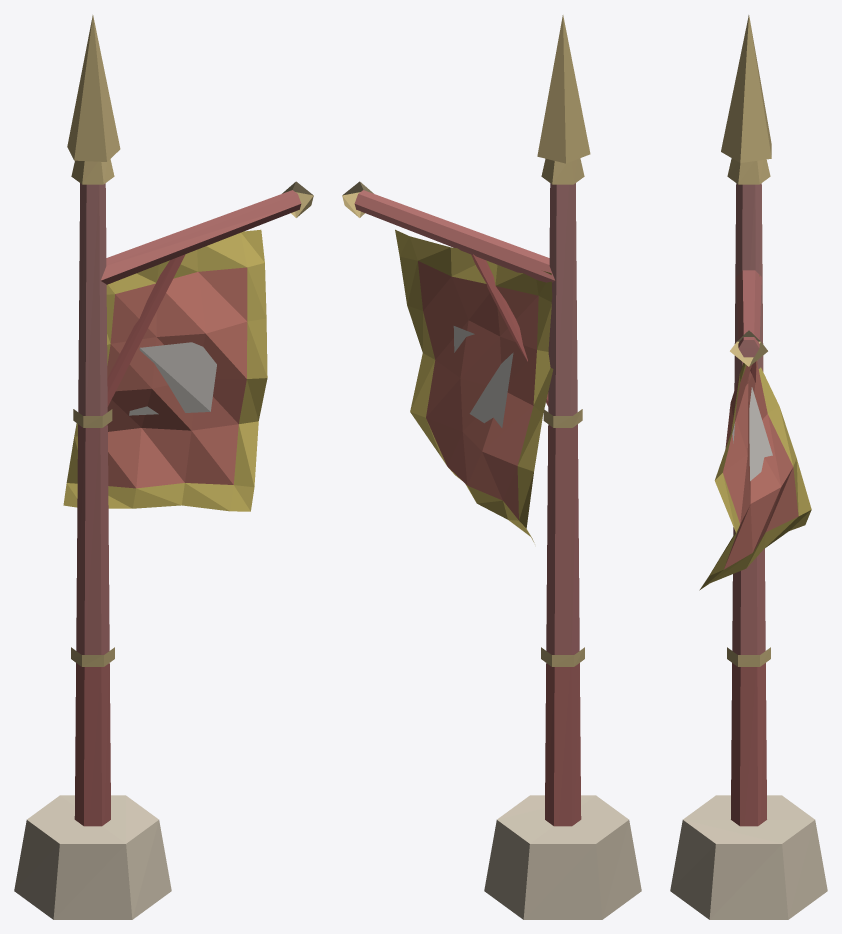
Rendered from flag.rect.chizhi__pole.ground.miaogan__armHang.glb.
The picture shows the model from 3 angles, left to right: view 1: azimuth 30°, elevation 25°; view 2: azimuth 150°, elevation 25°; view 3: azimuth 270°, elevation 25°; orthographic projection.
Parts seen in each view (by area): view 1: flag.rect.chizhi; view 2: flag.rect.chizhi; view 3: flag.rect.chizhi.
Boxes of the visible parts, bbox=[...] form: flag.rect.chizhi: bbox=[14, 15, 313, 919]; flag.rect.chizhi: bbox=[342, 15, 641, 919]; flag.rect.chizhi: bbox=[670, 15, 827, 919].
Bounding box in the file's own units: 1.72 × 5.16 × 0.84.
